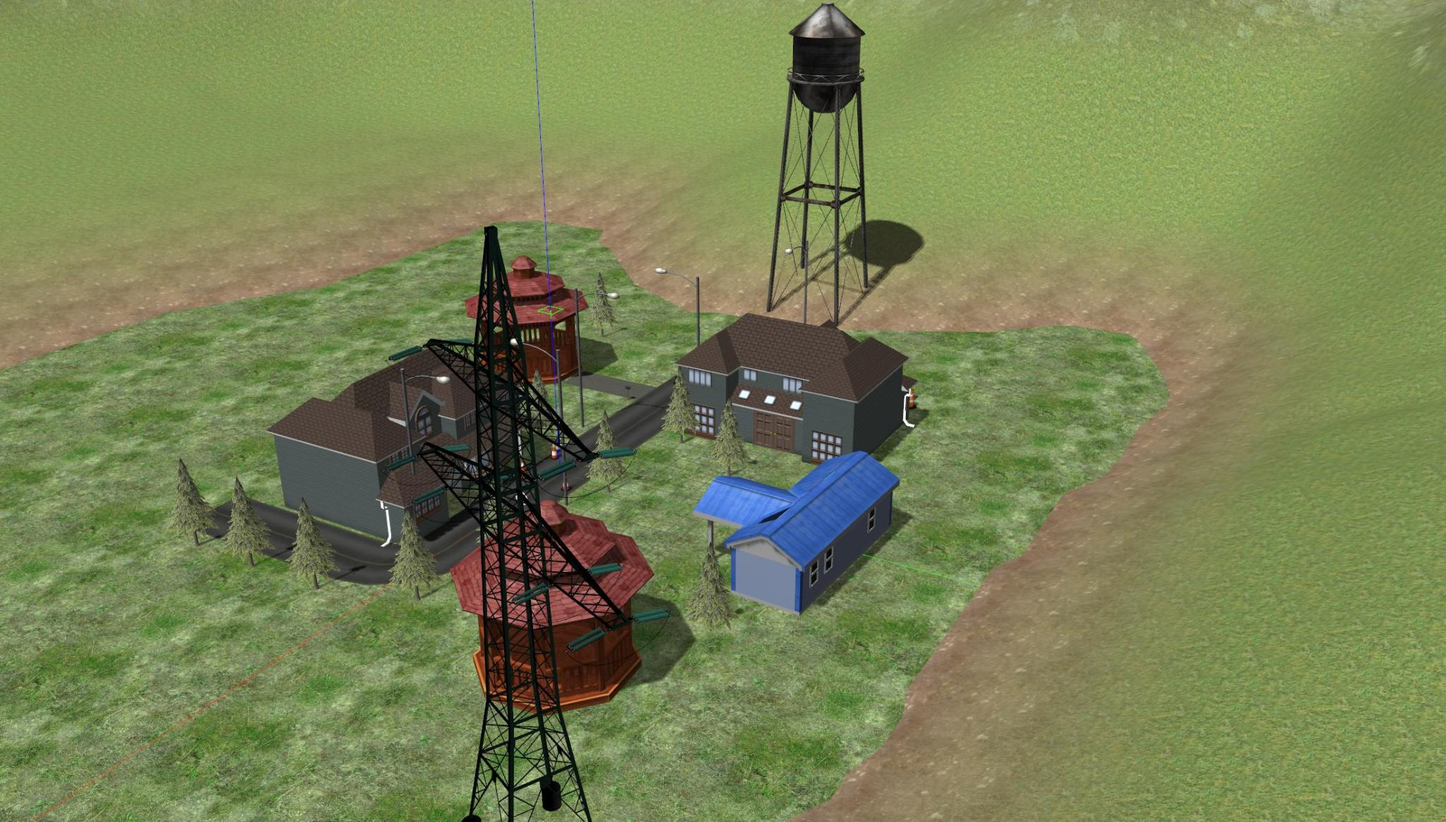tower: (414, 236, 619, 822)
